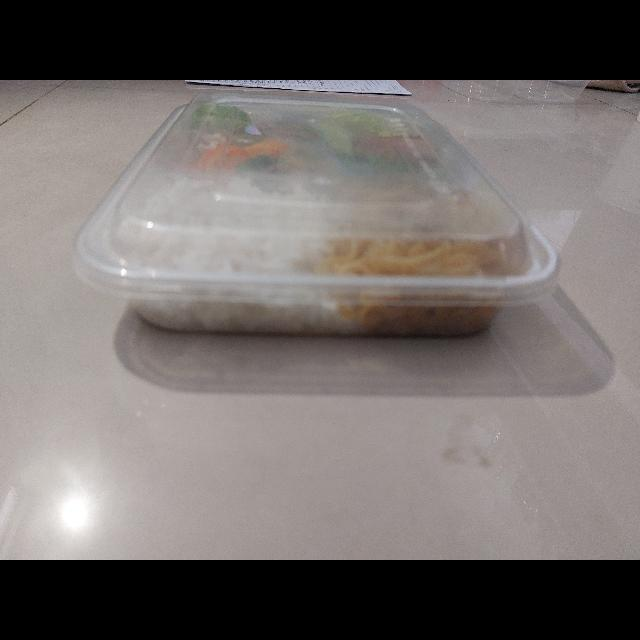bento: (72, 97, 563, 352)
